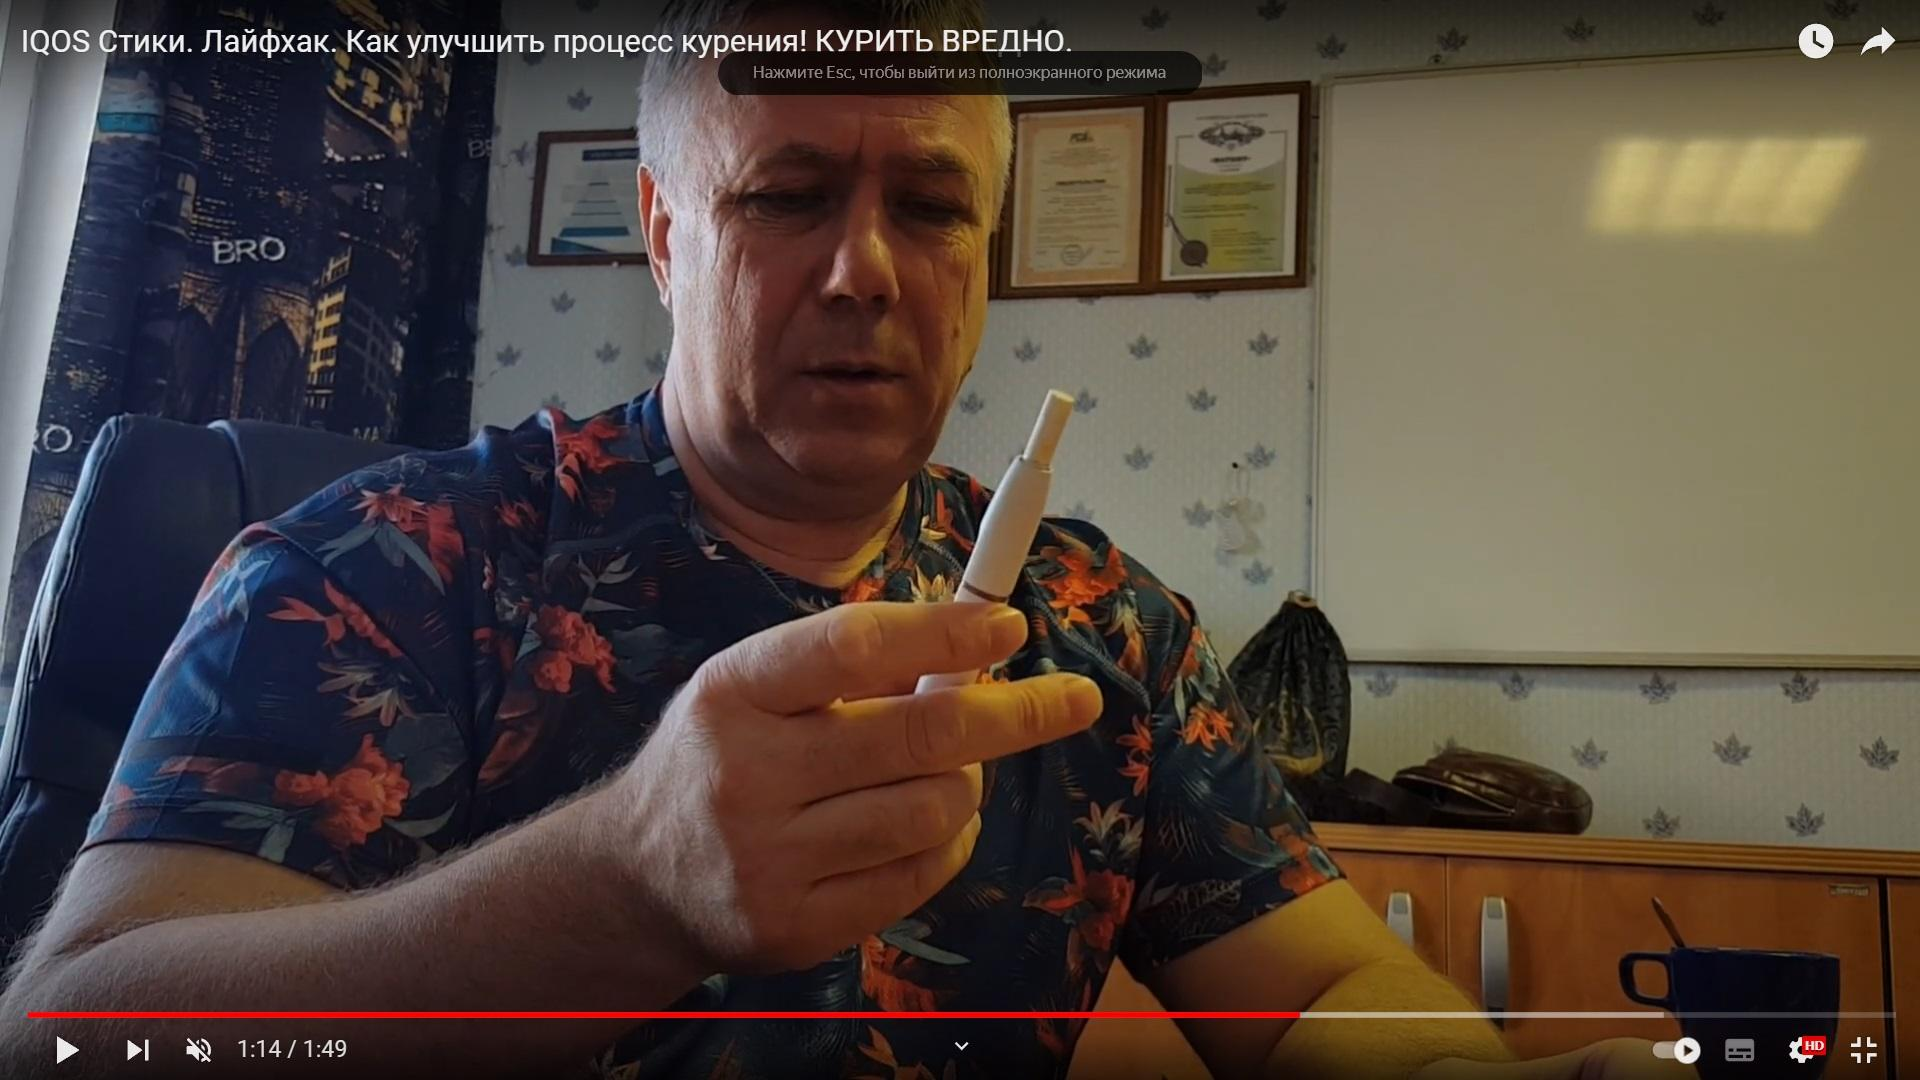iqos: (913, 388, 1077, 694)
